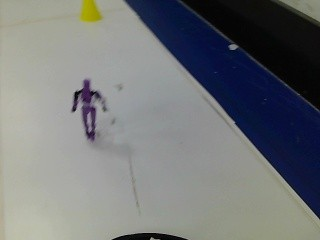cone: (78, 0, 105, 27)
pedestrian: (64, 74, 110, 143)
